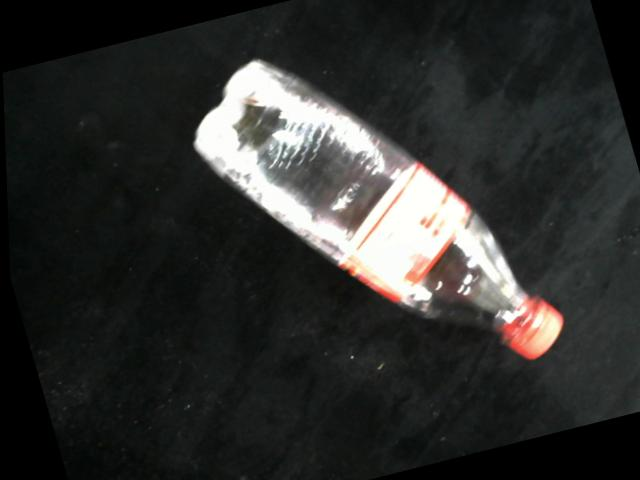bottle: (190, 57, 561, 362)
